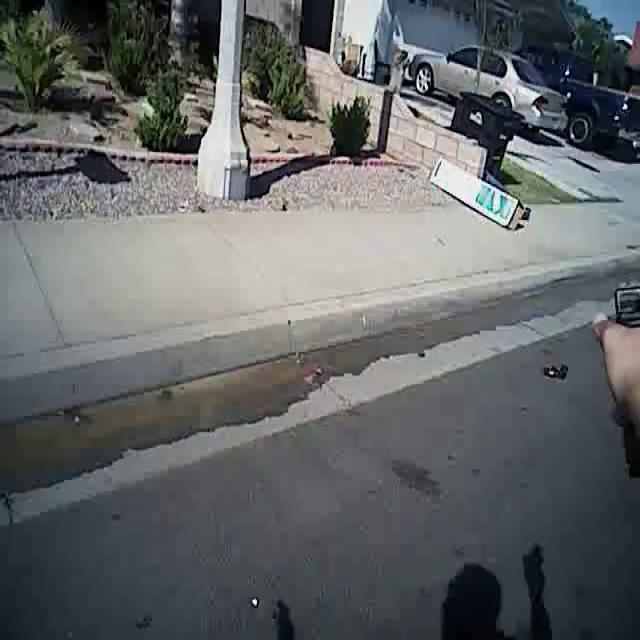gun: (590, 272, 640, 488)
